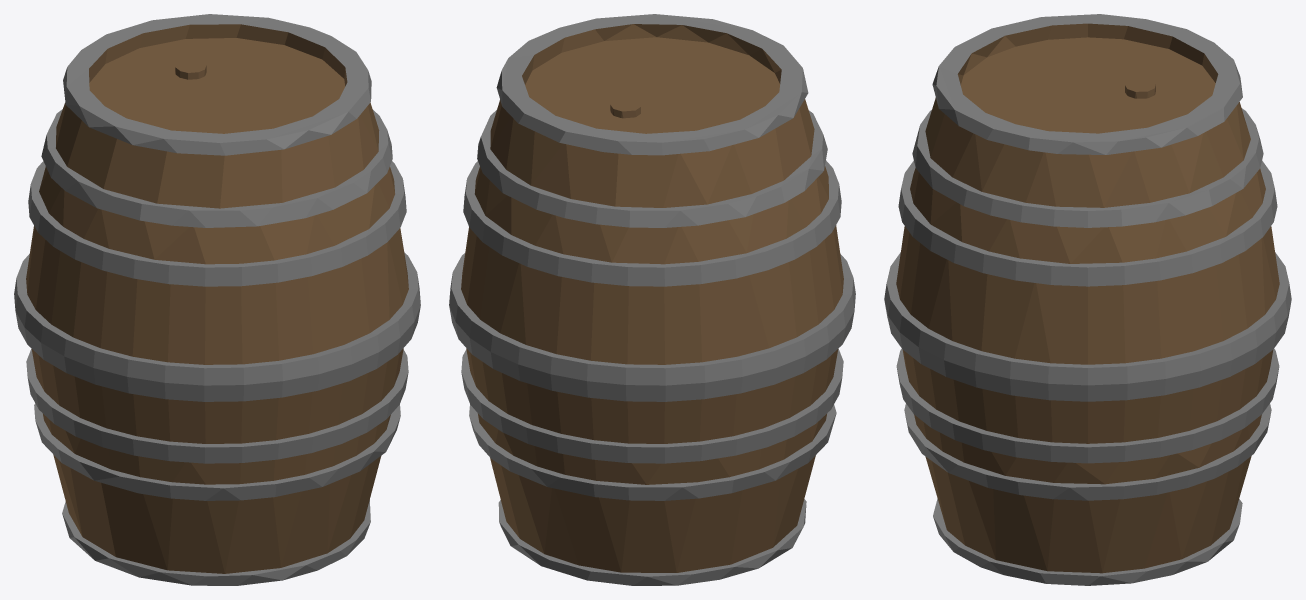
File: barrel.fbx
3 renders of one model, left to right at view 1: azimuth 30°, elevation 25°; view 2: azimuth 150°, elevation 25°; view 3: azimuth 270°, elevation 25°, orthographic.
Parts seen in each view (by area): view 1: Cylinder; view 2: Cylinder; view 3: Cylinder.
Part boxes in pixels (left/top/right/bottom): Cylinder: left=14, top=14, right=420, bottom=585; Cylinder: left=449, top=14, right=855, bottom=585; Cylinder: left=884, top=14, right=1291, bottom=585.
Size of the model in its own units: 400 by 480 by 400.
